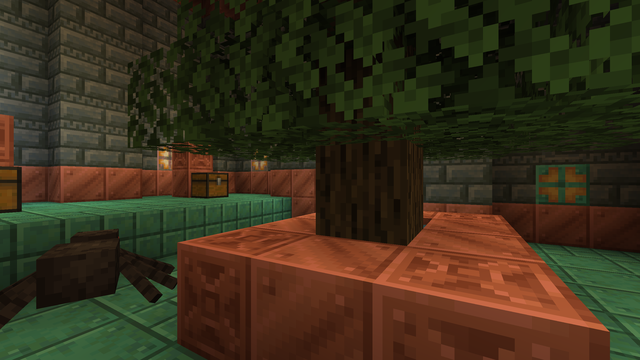araignees: (6, 221, 171, 340)
